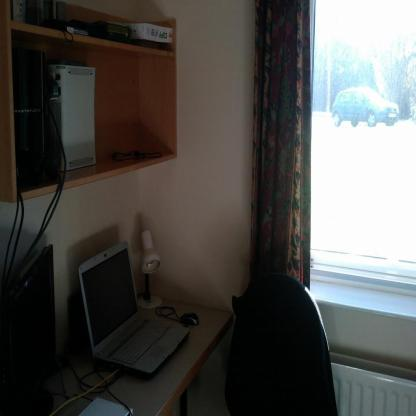board: (79, 236, 187, 390)
